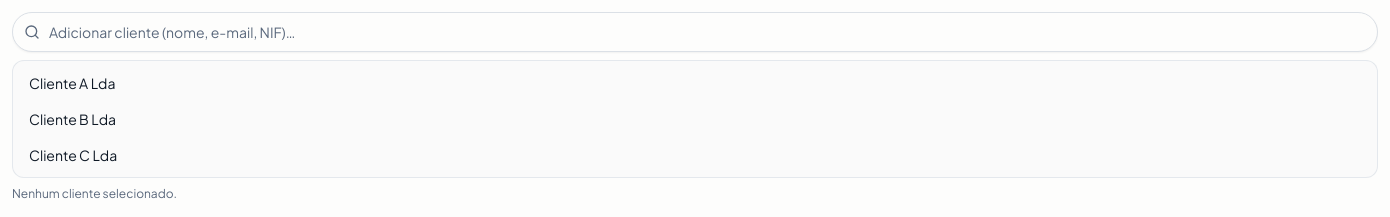
Test: ClientMultiSelect › não lista de novo, na busca, um cliente que já foi selecionado (só sobra o chip)
This screenshot has width=1390, height=217.
Click the button "Cliente A Lda": [72, 83] box [17,65,1373,101]
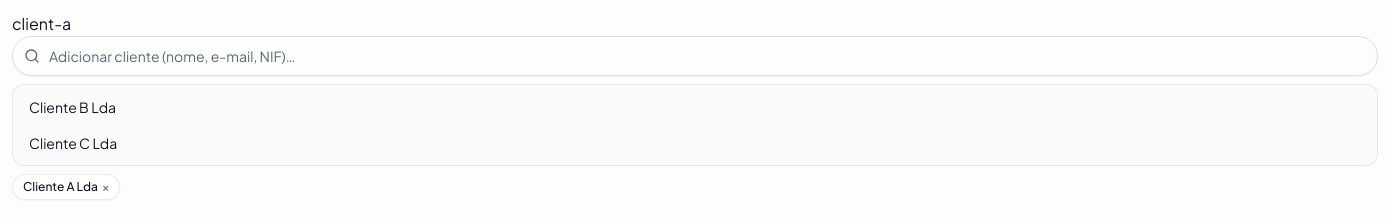
Check: the button "Cliente B Lda" is shown, box [17,89,1373,125]
Check: the number of list items "Cliente A Lda" is 1, box [12,174,120,200]
